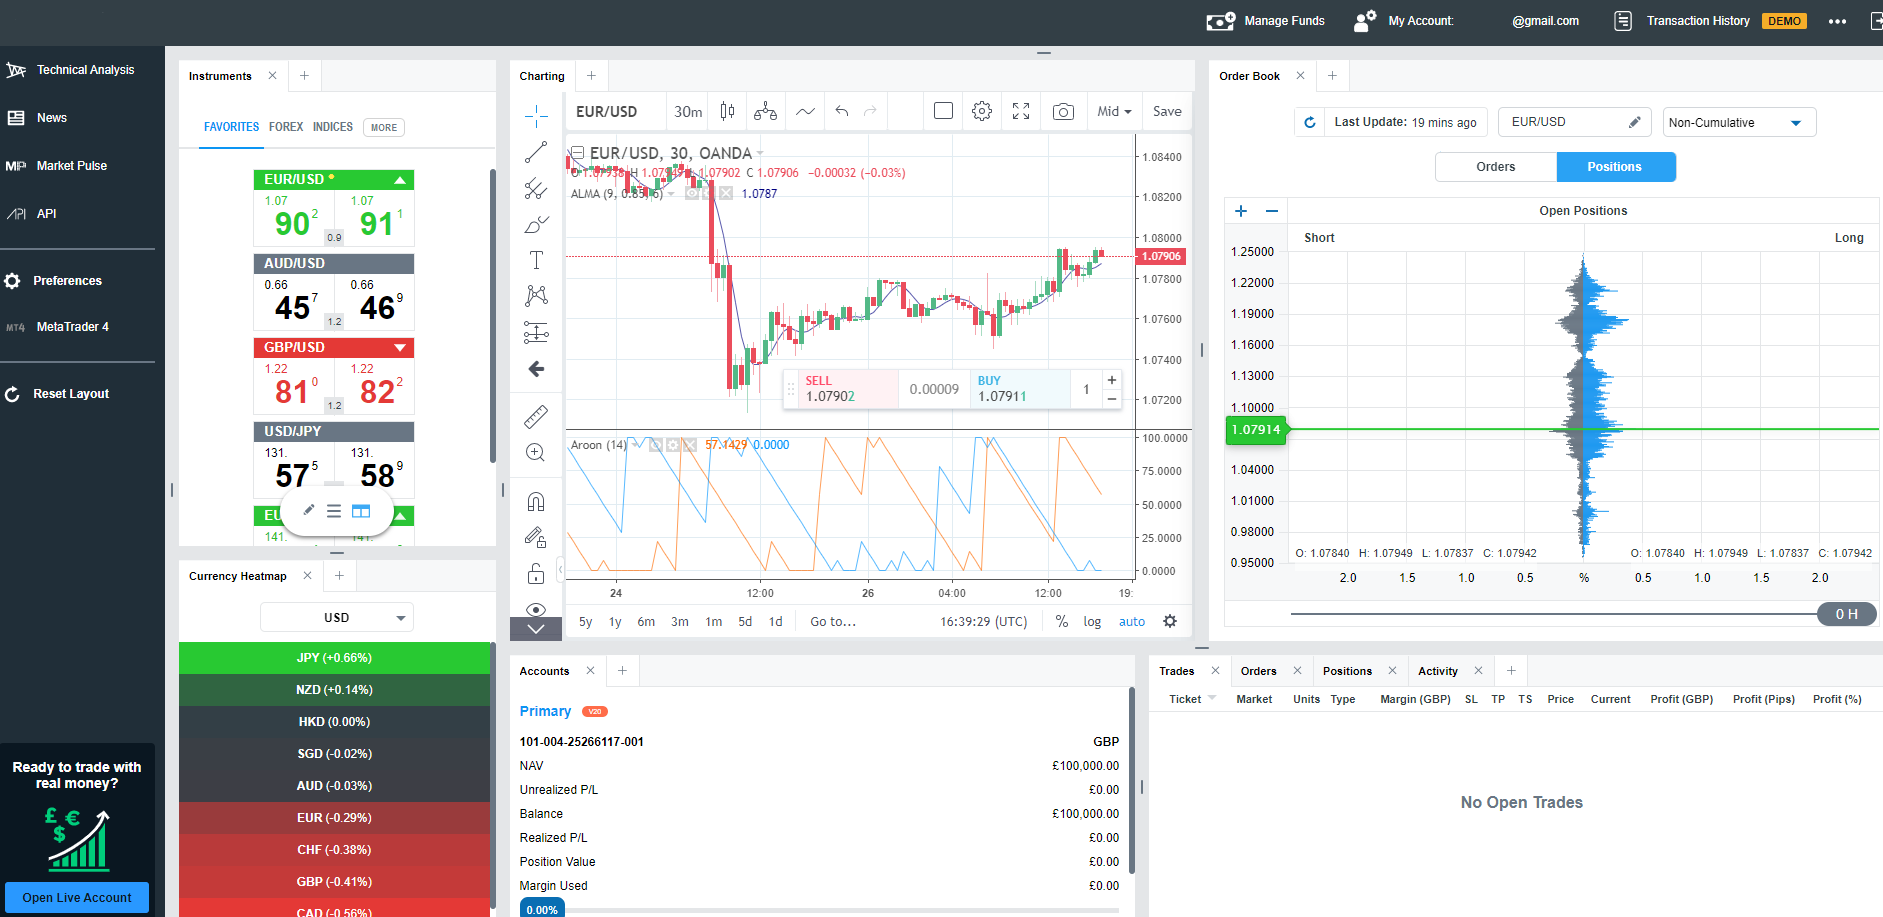block: (509, 59, 1192, 641), (1208, 58, 1883, 642), (177, 59, 497, 551), (1, 46, 165, 917), (1, 1, 1883, 48), (512, 92, 567, 641), (564, 91, 1192, 132), (252, 168, 414, 248), (253, 253, 414, 331), (253, 422, 413, 498), (255, 340, 416, 414), (566, 605, 797, 635), (255, 505, 413, 547)
button: (1437, 152, 1676, 181), (4, 881, 149, 915), (1142, 90, 1192, 130), (363, 118, 406, 136)
chart: (563, 134, 1191, 635), (1226, 198, 1876, 627)
form: (177, 562, 498, 916), (1292, 104, 1487, 138), (261, 601, 416, 635), (1499, 107, 1655, 136), (1664, 108, 1816, 137), (566, 92, 665, 134), (1087, 96, 1141, 131)
icon: (282, 489, 391, 537), (821, 92, 887, 132), (665, 92, 709, 134), (709, 91, 749, 134), (923, 92, 966, 132), (519, 477, 558, 519), (748, 91, 787, 134), (1003, 92, 1044, 132), (964, 91, 1004, 132), (1042, 92, 1086, 130), (1225, 199, 1289, 224), (521, 352, 560, 392), (519, 398, 560, 436), (509, 615, 563, 642), (519, 314, 558, 352), (519, 94, 555, 134), (516, 520, 558, 555), (519, 558, 560, 593), (787, 92, 823, 131), (520, 205, 558, 241), (521, 277, 560, 313), (519, 241, 558, 276), (520, 438, 560, 473), (519, 170, 556, 205), (520, 134, 556, 169), (1, 49, 32, 86), (1, 146, 32, 184), (1, 193, 32, 230), (1, 259, 32, 296), (1, 306, 32, 343), (1, 376, 32, 413), (1200, 8, 1239, 37), (1343, 8, 1382, 37), (575, 58, 608, 92), (1, 98, 32, 134), (1603, 7, 1642, 36), (1818, 7, 1857, 36), (289, 59, 323, 91), (606, 657, 641, 687), (1156, 604, 1189, 635), (1495, 655, 1528, 687), (323, 562, 355, 591), (520, 593, 561, 616), (1287, 62, 1317, 91), (1293, 107, 1323, 136), (1624, 107, 1654, 136), (1785, 108, 1815, 137), (1202, 657, 1231, 687), (1381, 657, 1410, 687), (1319, 61, 1347, 90), (385, 603, 414, 631), (576, 657, 604, 687), (1467, 655, 1495, 685), (295, 562, 323, 591), (261, 60, 287, 90), (1286, 657, 1313, 685), (1122, 92, 1141, 131), (1202, 688, 1235, 709), (567, 137, 588, 164), (751, 142, 775, 163), (1866, 7, 1883, 37)
image: (34, 801, 120, 877)
table: (1149, 655, 1882, 916), (509, 655, 1136, 915), (178, 641, 498, 916)
